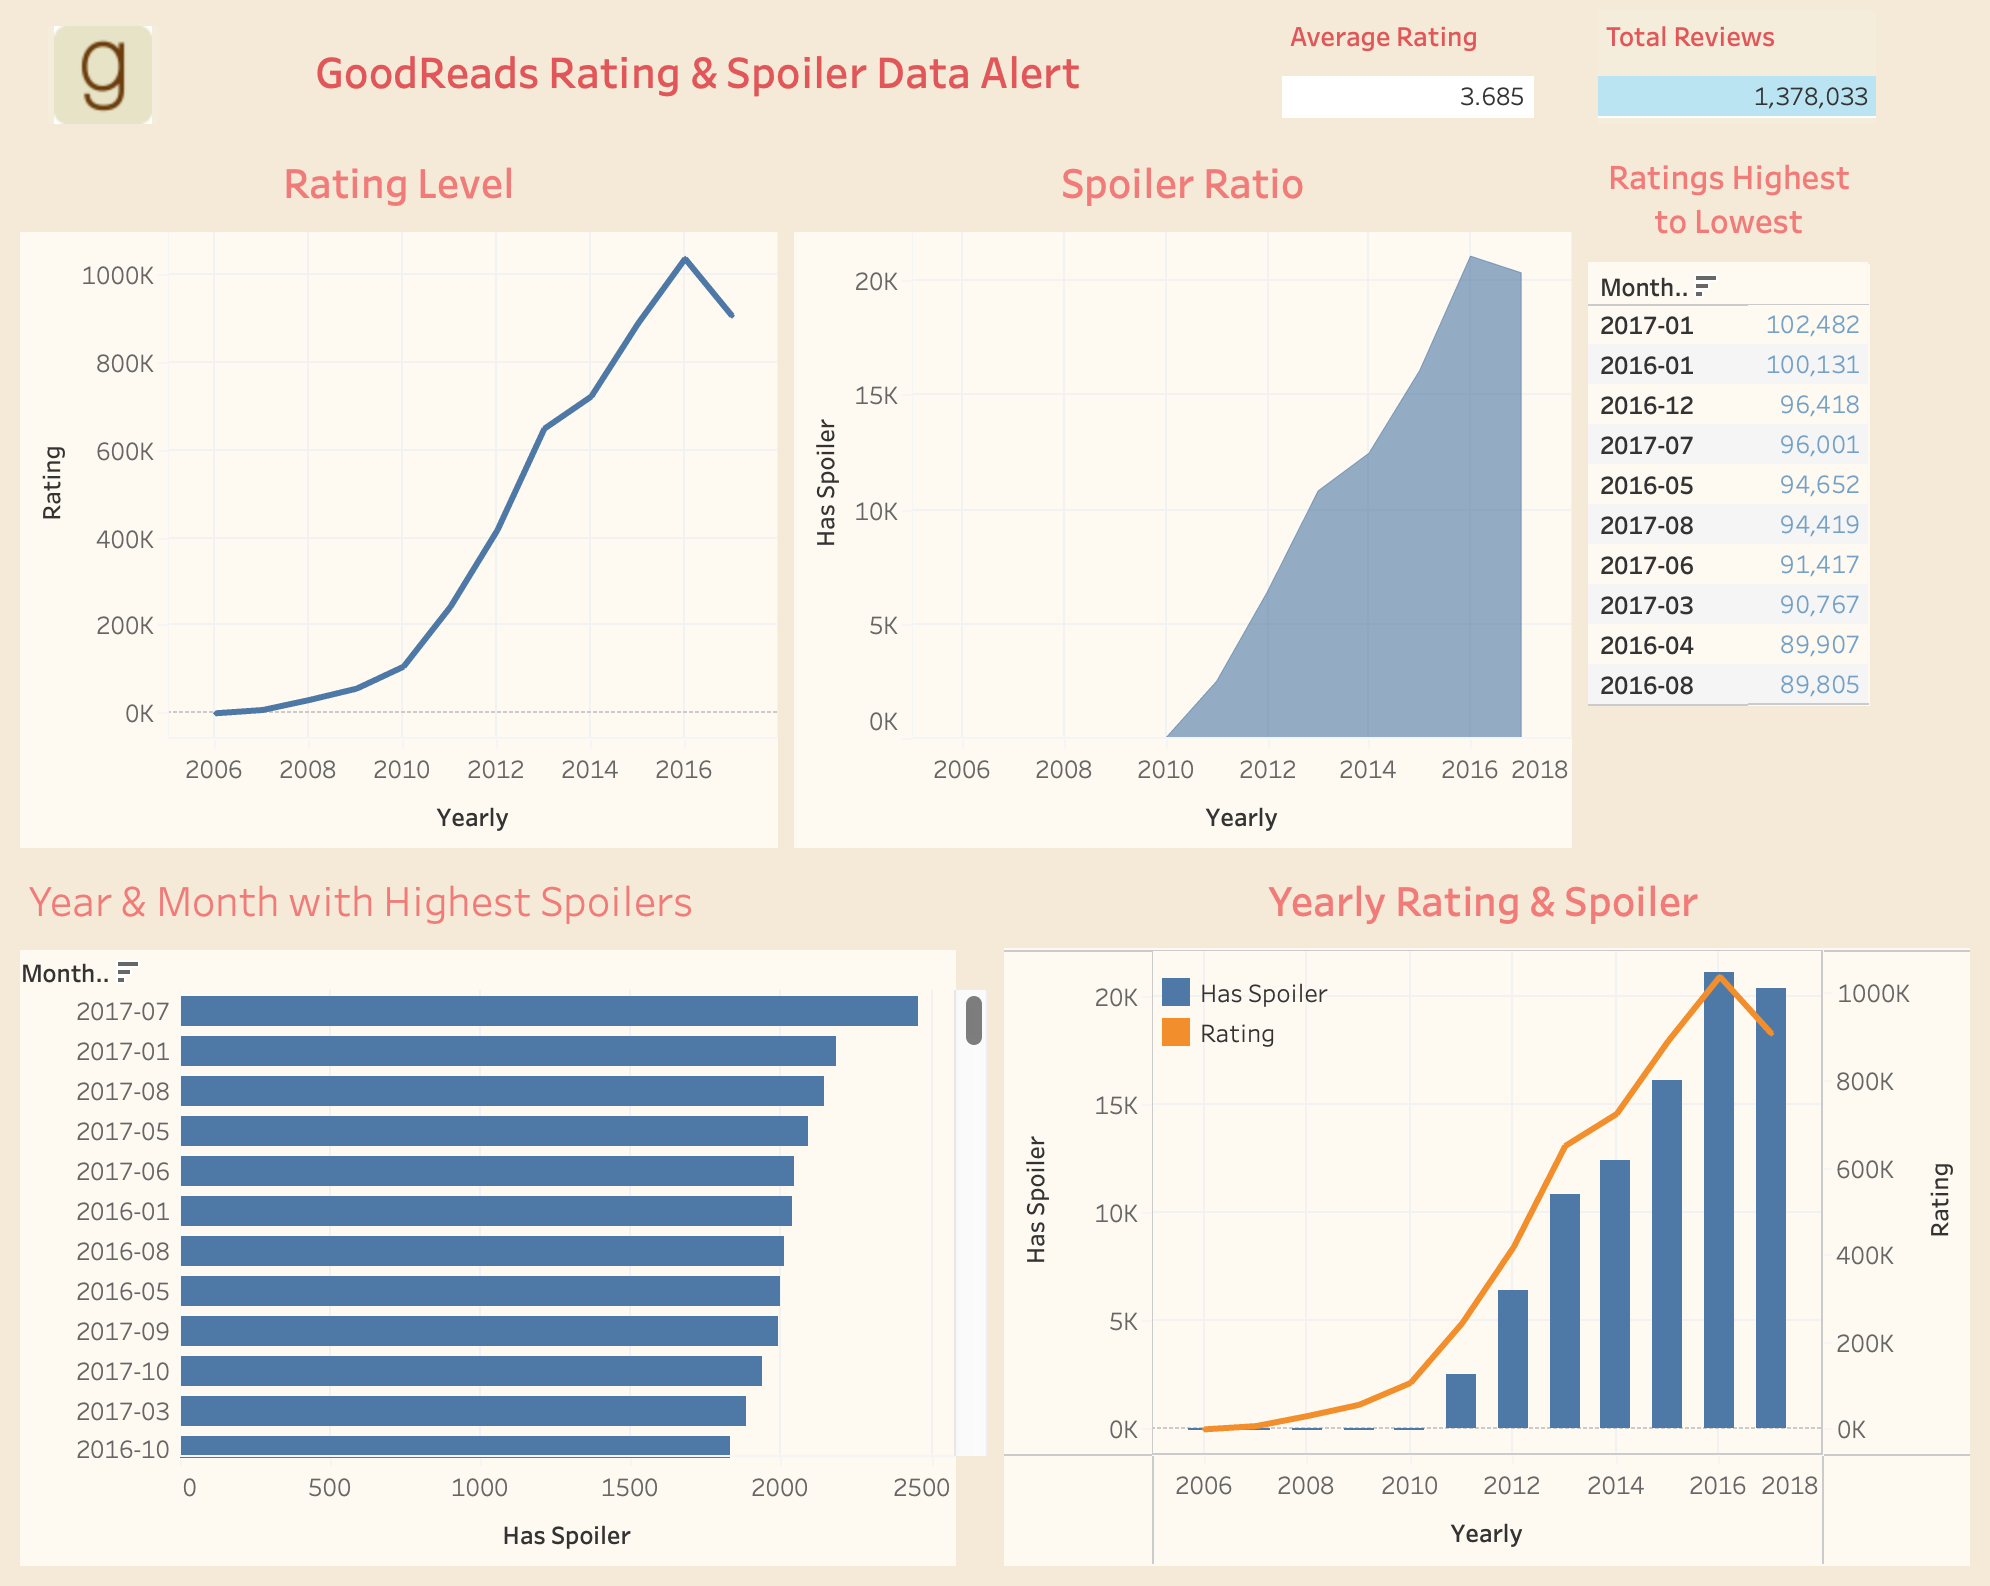

Layout of this report page (visuals, bound fields, positions):
{"tool":"tableau","page":{"name":"Dashboard 1","canvas":[1000,800],"ordinal":0},"visuals":[{"type":"title","box":[8,8,984,66]},{"type":"worksheet","title":"Average Rating","mark":"Automatic","box":[643,10,126,60]},{"type":"worksheet","title":"Total Spoilers","mark":"Automatic","box":[801,10,139,57]},{"type":"image","param":"/Users/kathan/Downloads/download.png","box":[26,18,55,49]},{"type":"worksheet","title":"RatingLevel","mark":"Automatic","rows":["rating"],"cols":["yearly"],"box":[8,74,386.9,359]},{"type":"worksheet","title":"SpoilerRatio","mark":"Area","rows":["has_spoiler"],"cols":["yearly"],"box":[394.9,74,397,359]},{"type":"worksheet","title":"HighestRating","mark":"Automatic","rows":["monthly"],"box":[792,74,200.1,359]},{"type":"worksheet","title":"HighestSpoilers","mark":"Automatic","rows":["monthly"],"cols":["has_spoiler"],"box":[8,433,492,359]},{"type":"worksheet","title":"RatingSpoiler","mark":"Automatic","rows":["has_spoiler","rating"],"cols":["yearly"],"box":[500,433,492,359]},{"type":"legend","title":"RatingSpoiler","param":"[federated.09swkbp15wdwx814tv8ha0ty2pqc].[:Measure Names]","box":[580,473,140,58]}]}

Visuals, with their boxes in screenshot pixels (x1, y1, x2, y2), scaled from the page's 1000x800 canvas onto the 1990x1586 screenshot:
title: box(16, 16, 1974, 147)
"Average Rating" worksheet: box(1280, 20, 1530, 139)
"Total Spoilers" worksheet: box(1594, 20, 1871, 133)
image: box(52, 36, 161, 133)
"RatingLevel" worksheet: box(16, 147, 786, 858)
"SpoilerRatio" worksheet (Area marks): box(786, 147, 1576, 858)
"HighestRating" worksheet: box(1576, 147, 1974, 858)
"HighestSpoilers" worksheet: box(16, 858, 995, 1570)
"RatingSpoiler" worksheet: box(995, 858, 1974, 1570)
"RatingSpoiler" legend: box(1154, 938, 1433, 1053)
